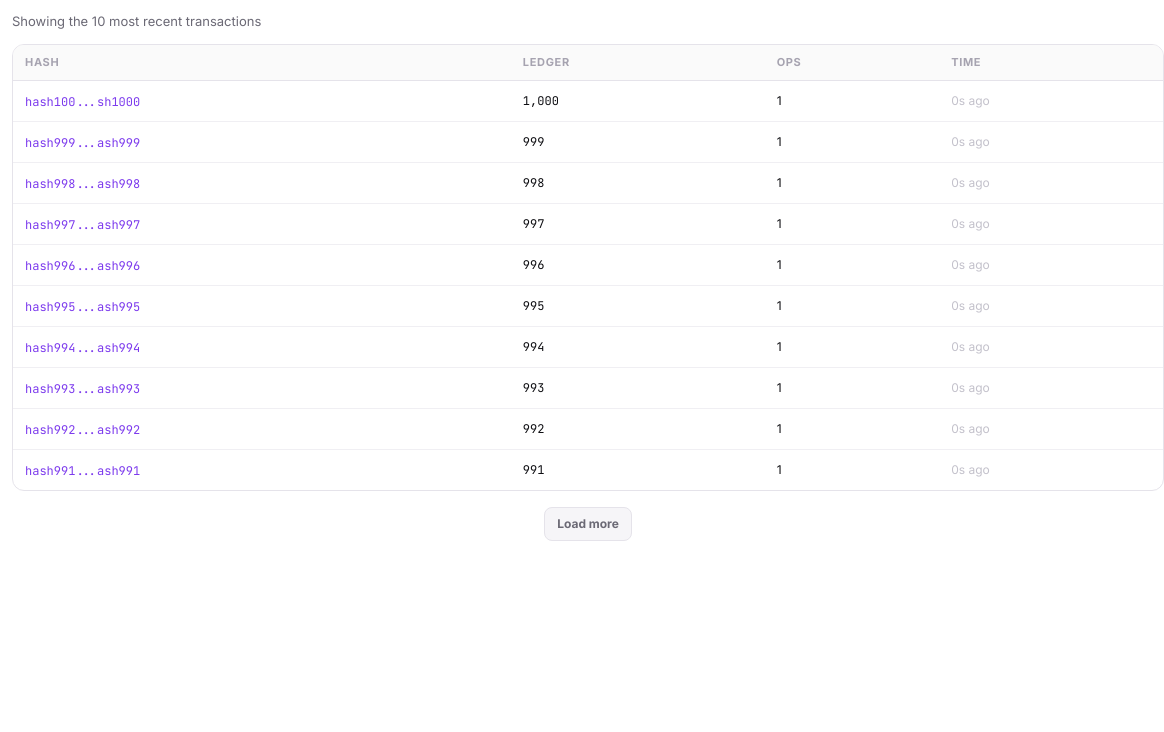
it: AccountTransactionList › preserves loaded rows when the account list is unavailable
The image size is (1164, 732).
Click the button "Load more" at (588, 524), box 544,507 -> 632,541
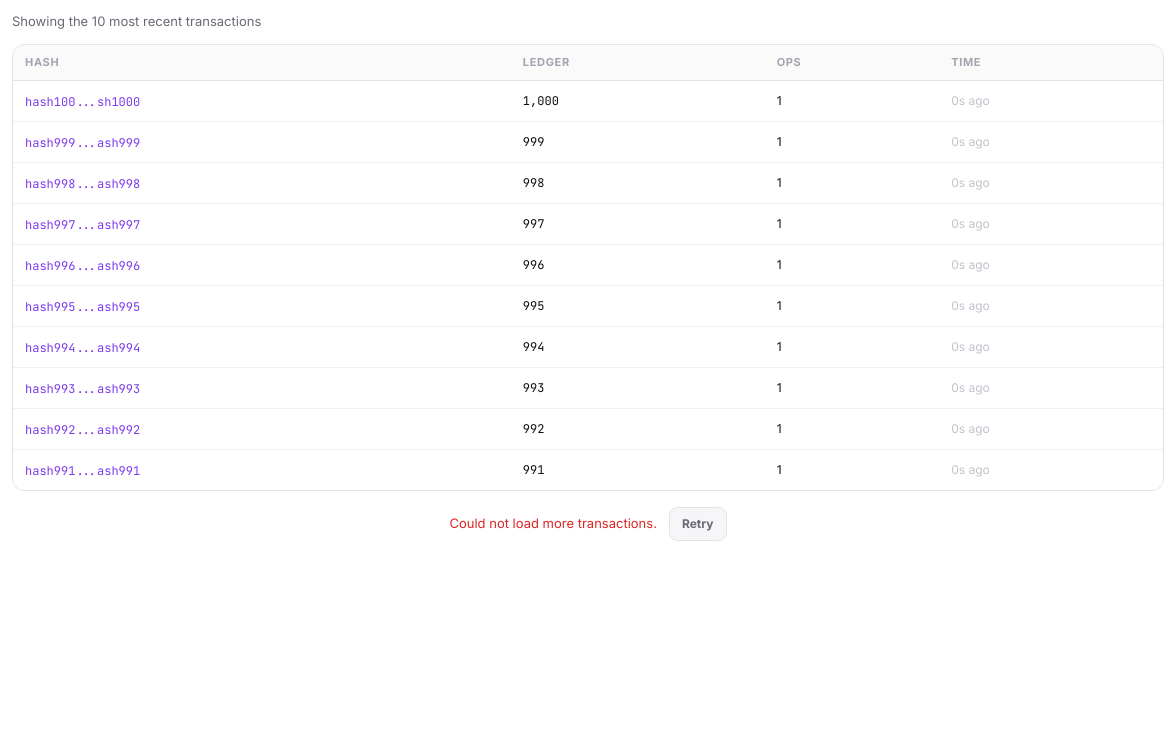
Expected: the text with test id "transaction-count" reads "Showing the 10 most recent transactions", 12,13 -> 261,29
Expected: the text "Could not load more transactions." is shown, 450,514 -> 657,534
Expected: the button "Retry" is shown, 669,507 -> 726,541
